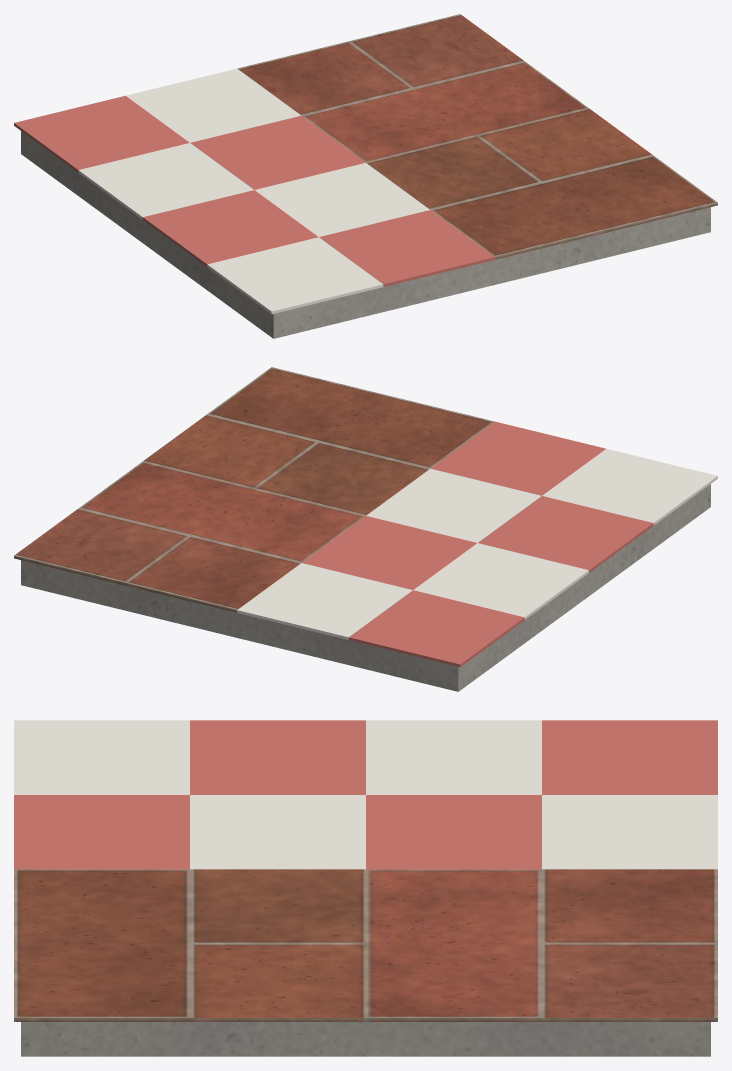
Rendered from floor_half.glb.
The picture shows the model from 3 angles, top to bottom: view 1: azimuth 30°, elevation 25°; view 2: azimuth 150°, elevation 25°; view 3: azimuth 270°, elevation 25°; orthographic projection. The views are drawn at different scales.
Visible parts, largest first — view 1: floor_half_quarry, floor_half_tile_r, floor_half_tile_w, floor_half_concrete; view 2: floor_half_quarry, floor_half_tile_w, floor_half_tile_r, floor_half_concrete; view 3: floor_half_quarry, floor_half_tile_r, floor_half_tile_w, floor_half_concrete.
Part boxes in pixels (box(x1,y1,x2,y2)): floor_half_quarry: box(237, 14, 717, 259); floor_half_tile_r: box(14, 95, 494, 286); floor_half_tile_w: box(78, 68, 429, 314); floor_half_concrete: box(21, 131, 710, 338); floor_half_quarry: box(14, 367, 494, 612); floor_half_tile_w: box(237, 448, 717, 639); floor_half_tile_r: box(302, 421, 653, 667); floor_half_concrete: box(21, 484, 710, 691); floor_half_quarry: box(14, 869, 717, 1021); floor_half_tile_r: box(14, 720, 717, 869); floor_half_tile_w: box(14, 720, 717, 869); floor_half_concrete: box(21, 1022, 710, 1056).
Size of the model in its own units: 2 by 0.13 by 2.
4 materials, 2 textured.
